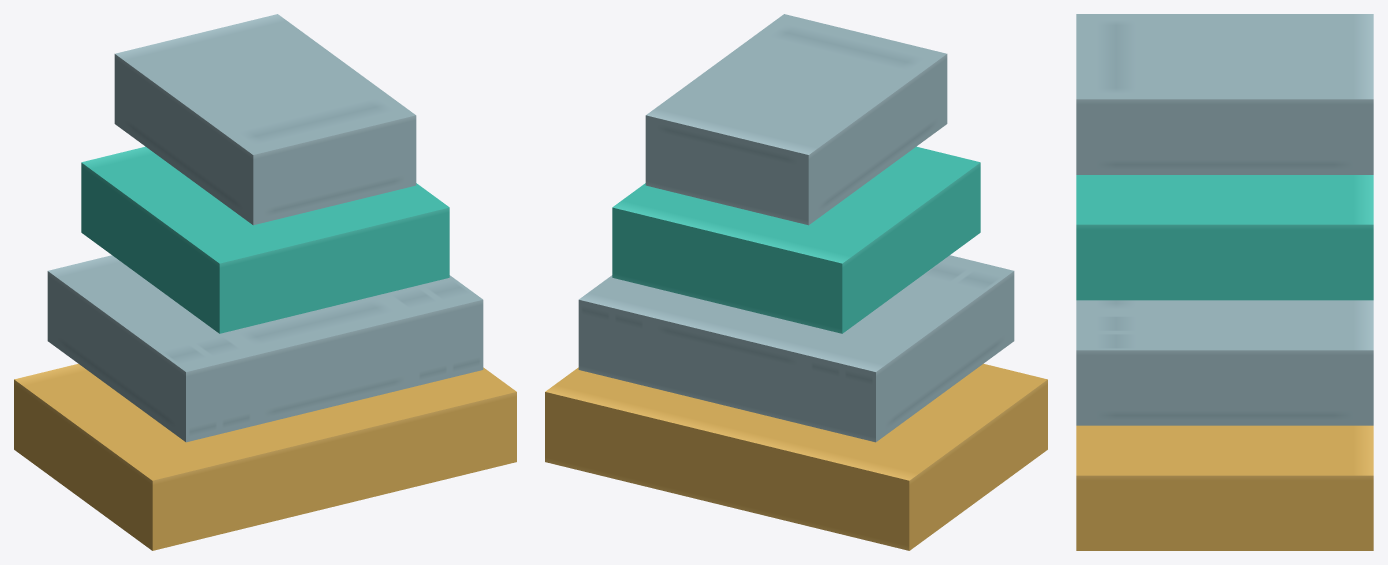
File: sc_pickup_cache.obj
3 renders of one model, left to right at view 1: azimuth 30°, elevation 25°; view 2: azimuth 150°, elevation 25°; view 3: azimuth 270°, elevation 25°, orthographic. The views are drawn at different scales.
Size of the model in its own units: 7.6 by 7.4 by 5.
1 material, 1 textured.
